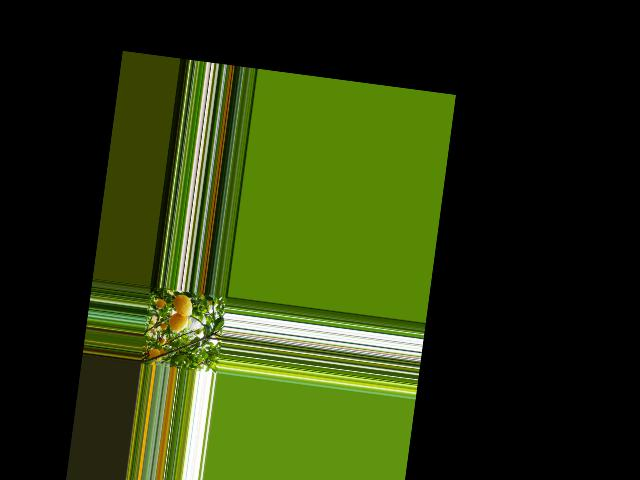lemon: (164, 310, 191, 334)
